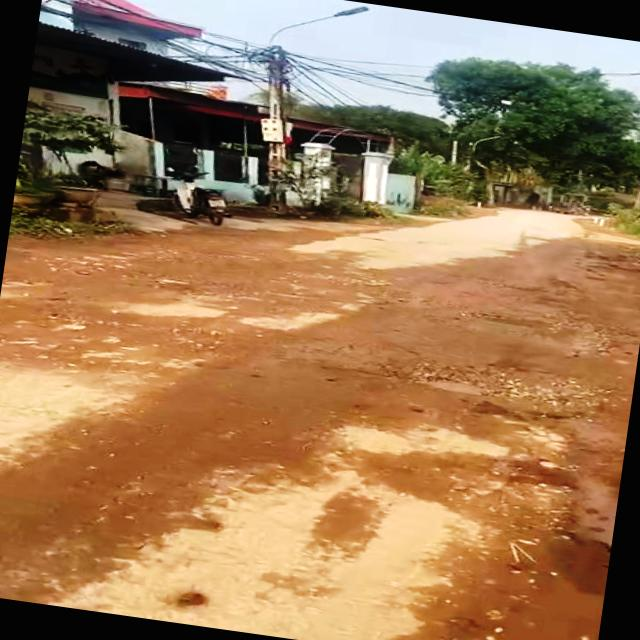pothole: (390, 350, 605, 422), (452, 306, 620, 358), (560, 484, 619, 558), (147, 273, 198, 298)
